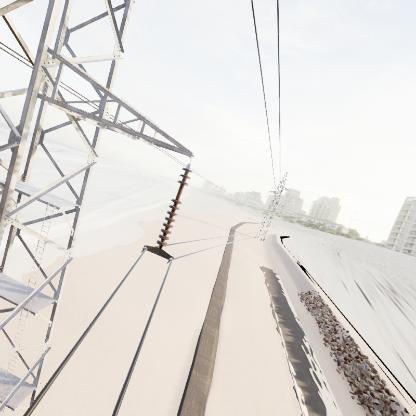insulator: (156, 165, 194, 252)
